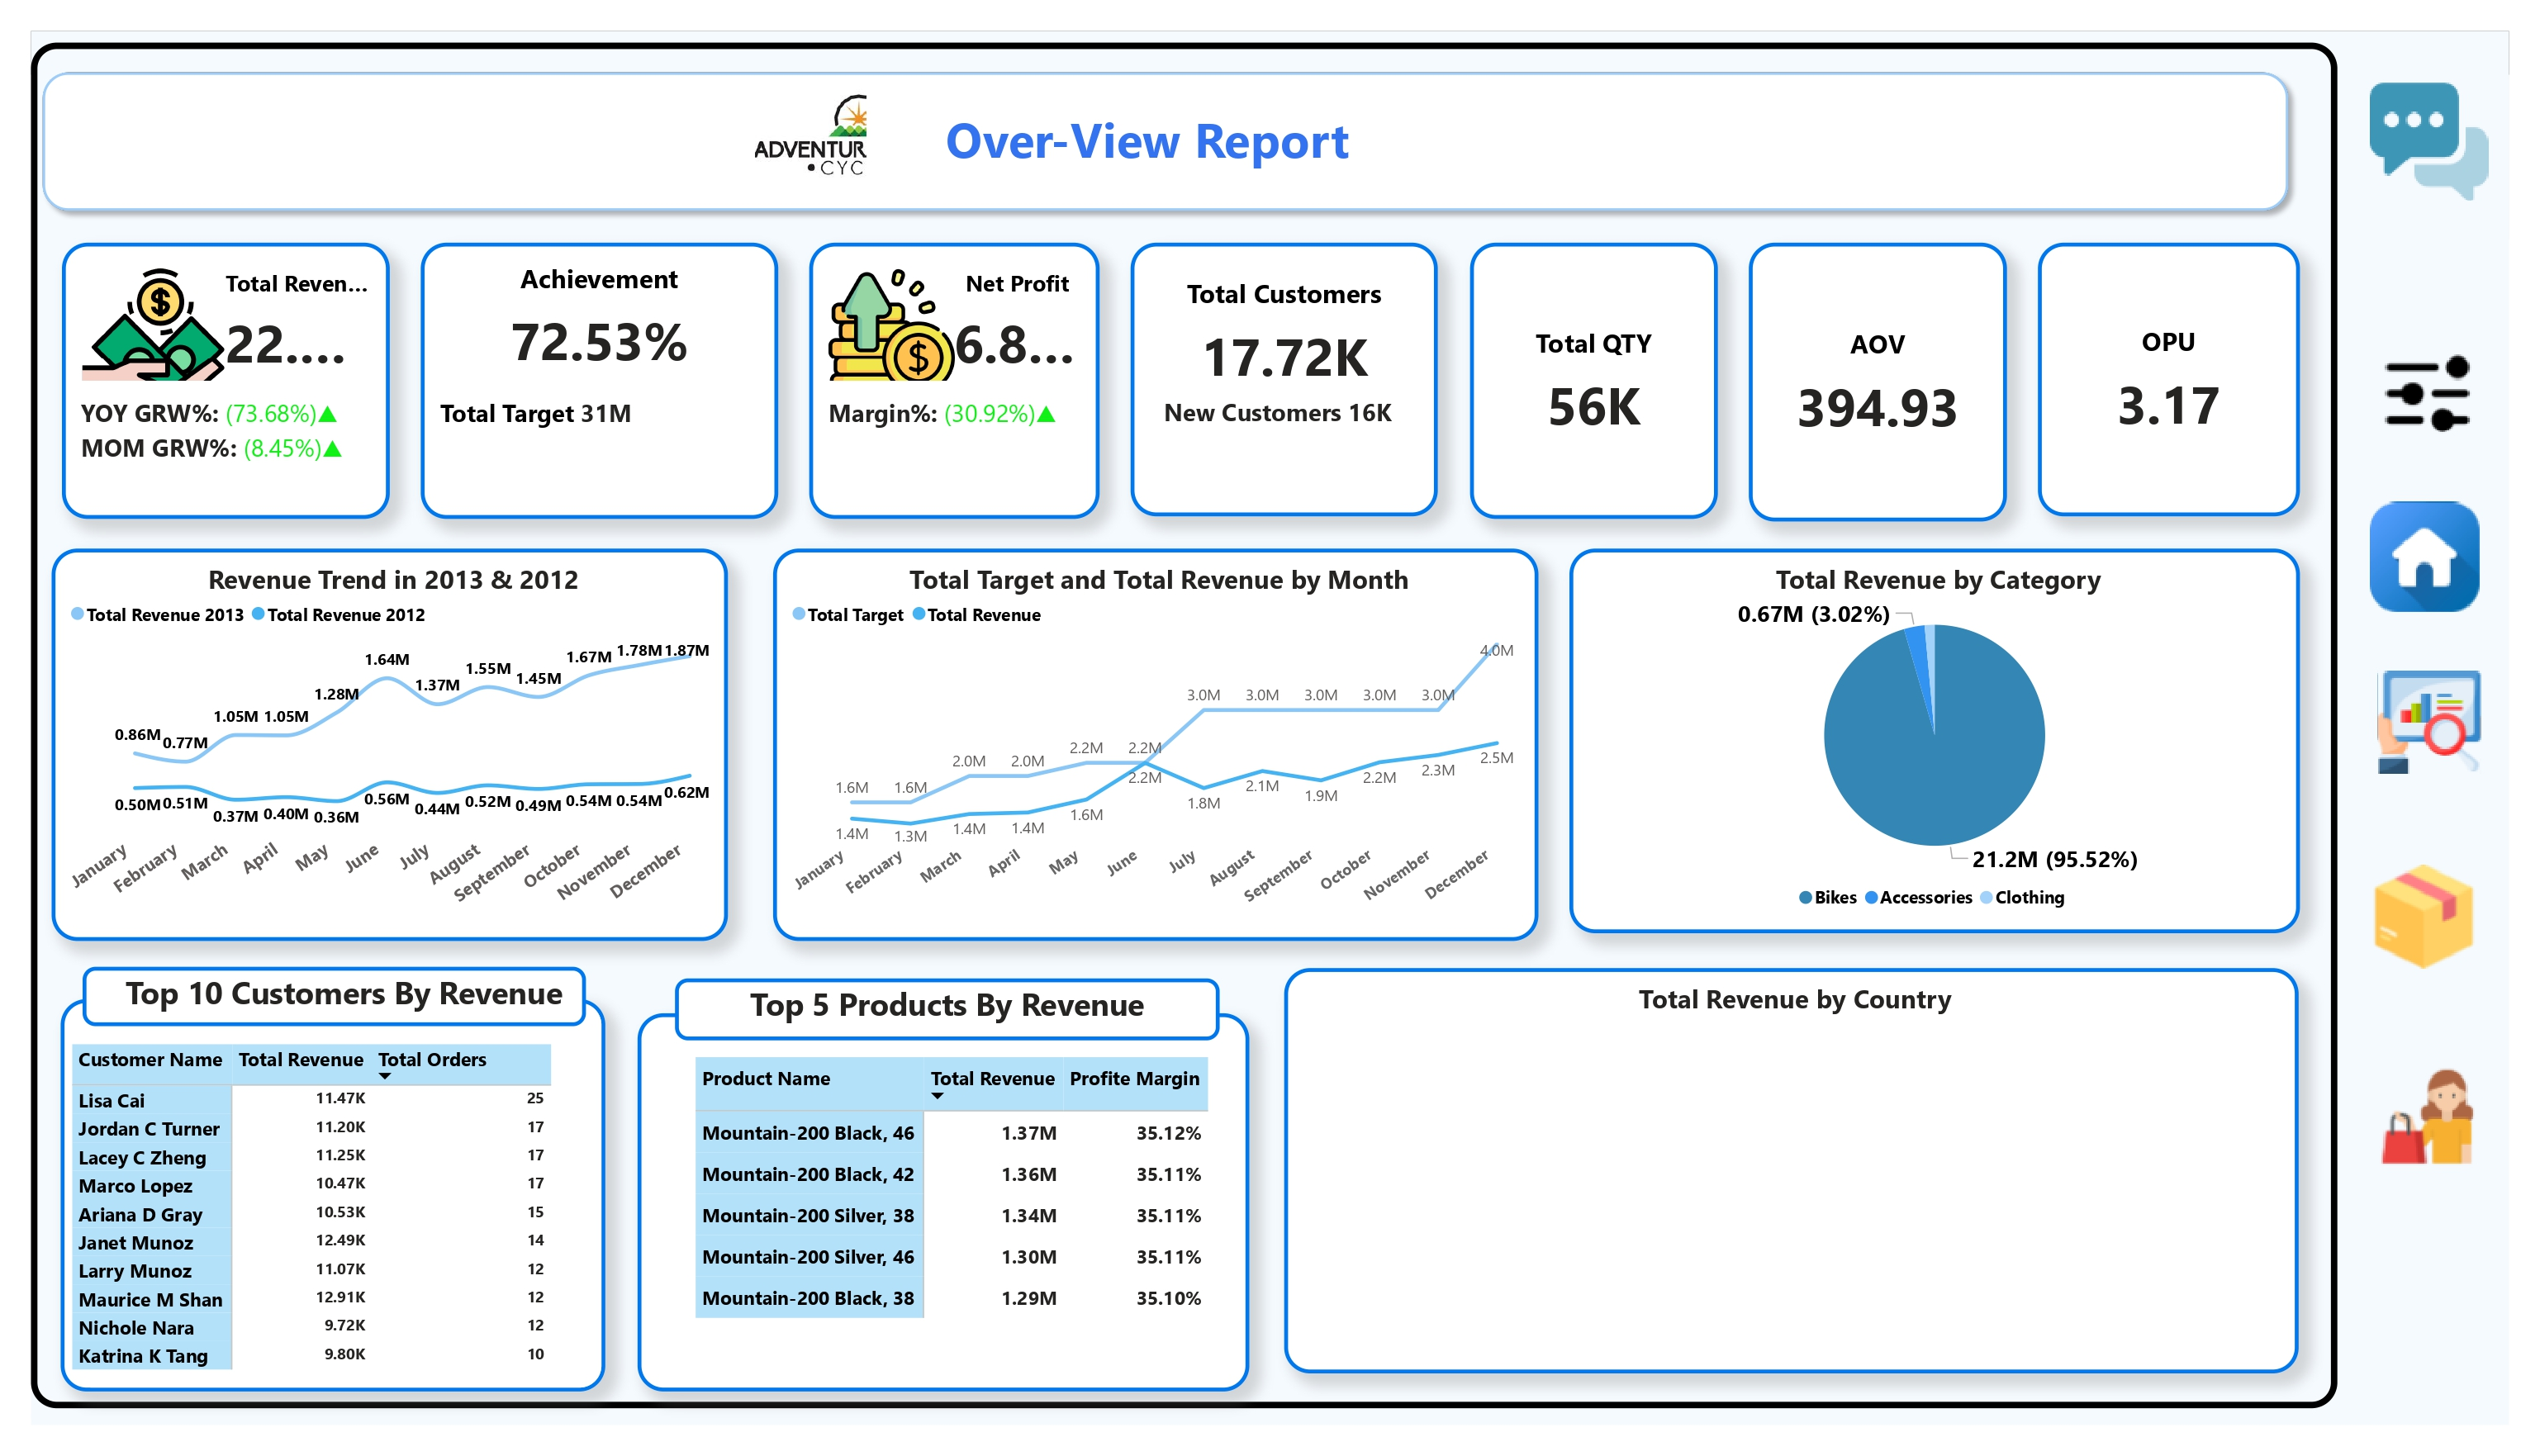

The dashboard page shown, as its layout file describes it:
{"tool":"powerbi","page":{"name":"Over-View","canvas":[1920,1080],"ordinal":1},"visuals":[{"type":"shape","title":"Border","box":[0,9,1787,1058],"z":0},{"type":"shape","box":[22.5,750,421.6,304.3],"z":0,"group":"g2"},{"type":"shape","box":[470,761,474,293],"z":0,"group":"g1"},{"type":"actionButton","box":[1812.5,478.2,90,115],"z":1000},{"type":"textbox","box":[39.1,725,390.6,46.3],"z":1000,"group":"g2"},{"type":"pivotTable","fields":{"Rows":["Dim_Product.Product Name"],"Values":["My Measures.Total Revenue","My Measures.Margin%"]},"box":[494.9,789.9,422,237.1],"z":1000,"group":"g1"},{"type":"shape","box":[0,22.5,1757.5,125],"z":2000},{"type":"textbox","box":[499.1,734,422,48.2],"z":2000,"group":"g1"},{"type":"pivotTable","fields":{"Rows":["Dim_Customers.Full Name"],"Values":["My Measures.Total Revenue","My Measures.Total Orders"]},"box":[31.6,784.8,403.8,258.4],"z":2000,"group":"g2"},{"type":"cardVisual","fields":{"Data":["My Measures.Total Revenue"]},"box":[23.8,163.6,254.4,214.2],"z":3000},{"type":"actionButton","box":[1805,617.6,97.5,135],"z":4000},{"type":"cardVisual","fields":{"Data":["My Measures.Net Profit"]},"box":[603.1,163.6,225.2,214.2],"z":5000},{"type":"actionButton","box":[1806,225,102,112],"z":6000},{"type":"actionButton","box":[1806,777,102,128],"z":7000},{"type":"cardVisual","fields":{"Data":["My Measures.AOV"]},"box":[1331.2,163.6,199.5,216],"z":8000},{"type":"cardVisual","fields":{"Data":["My Measures.Achievement%"]},"box":[302.5,163.6,276.4,214.2],"z":9000},{"type":"lineChart","title":"Revenue Trend in 2013 & 2012","fields":{"Category":["Dim_Date.FullDateAlternateKey.Variation.Date Hierarchy.Year","Dim_Date.FullDateAlternateKey.Variation.Date Hierarchy.Quarter","Dim_Date.FullDateAlternateKey.Variation.Date Hierarchy.Month"],"Y":["My Measures.Total Revenue 2013","My Measures.Total Revenue 2012"]},"box":[16.5,400.9,523.5,303.9],"z":10000},{"type":"cardVisual","title":"Total Quantiy","fields":{"Data":["My Measures.Total QTY"]},"box":[1114.8,163.6,192.2,214.2],"z":11000},{"type":"lineChart","fields":{"Category":["Dim_Date.FullDateAlternateKey.Variation.Date Hierarchy.Year","Dim_Date.FullDateAlternateKey.Variation.Date Hierarchy.Quarter","Dim_Date.FullDateAlternateKey.Variation.Date Hierarchy.Month","Dim_Date.FullDateAlternateKey.Variation.Date Hierarchy.Day"],"Y":["My Measures.Total Target","My Measures.Total Revenue"]},"box":[574.8,400.9,593.1,303.9],"z":12000},{"type":"cardVisual","fields":{"Data":["My Measures.OPU"]},"box":[1555,163.6,203,212],"z":13000},{"type":"group","id":"g1","title":"Group 1","box":[470,734,474,320],"z":14000},{"type":"textbox","box":[704,58,336,56],"z":15000},{"type":"image","box":[552,40,104,90],"z":16000},{"type":"group","id":"g2","title":"Group 2","box":[22.5,725,422.5,330],"z":17000},{"type":"pieChart","fields":{"Category":["Dim_Product.Category"],"Y":["My Measures.Total Revenue"]},"box":[1192,401,566,298],"z":18000},{"type":"azureMap","fields":{"Category":["Fact_Sales.Country"],"Size":["My Measures.Total Revenue"]},"box":[971.4,725.7,785.7,314.3],"z":19000},{"type":"actionButton","box":[1808,32,100,108],"z":21000},{"type":"actionButton","box":[1807.5,361.4,100,92.5],"z":22000},{"type":"cardVisual","fields":{"Data":["My Measures.Total Customer"]},"box":[852,164,238,212],"z":23000}]}

Visuals, with their boxes in screenshot pixels (x1, y1, x2, y2):
"Border" shape: detection(0, 31, 2331, 1411)
shape: detection(30, 998, 579, 1395)
shape: detection(613, 1013, 1232, 1395)
actionButton: detection(2365, 643, 2482, 794)
textbox: detection(51, 965, 561, 1026)
pivotTable - Dim_Product.Product Name x My Measures.Total Revenue: detection(646, 1051, 1196, 1359)
shape: detection(0, 50, 2293, 212)
textbox: detection(651, 977, 1202, 1040)
pivotTable - Dim_Customers.Full Name x My Measures.Total Revenue: detection(41, 1044, 568, 1381)
cardVisual - My Measures.Total Revenue: detection(31, 233, 363, 513)
actionButton: detection(2355, 825, 2482, 1002)
cardVisual - My Measures.Net Profit: detection(787, 233, 1080, 513)
actionButton: detection(2356, 313, 2490, 459)
actionButton: detection(2356, 1033, 2490, 1200)
cardVisual - My Measures.AOV: detection(1737, 233, 1997, 515)
cardVisual - My Measures.Achievement%: detection(395, 233, 755, 513)
"Revenue Trend in 2013 & 2012" lineChart: detection(21, 543, 705, 939)
"Total Quantiy" cardVisual: detection(1455, 233, 1705, 513)
lineChart - Dim_Date.FullDateAlternateKey.Variation.Date Hierarchy.Year x Dim_Date.FullDateAlternateKey.Variation.Date Hierarchy.Quarter: detection(750, 543, 1524, 939)
cardVisual - My Measures.OPU: detection(2029, 233, 2294, 510)
"Group 1" group: detection(613, 977, 1232, 1395)
textbox: detection(919, 96, 1357, 168)
image: detection(720, 72, 856, 189)
"Group 2" group: detection(30, 965, 581, 1396)
pieChart - Dim_Product.Category x My Measures.Total Revenue: detection(1555, 543, 2294, 932)
azureMap - Fact_Sales.Country x My Measures.Total Revenue: detection(1267, 966, 2292, 1377)
actionButton: detection(2359, 62, 2490, 202)
actionButton: detection(2358, 491, 2489, 612)
cardVisual - My Measures.Total Customer: detection(1112, 234, 1422, 510)
